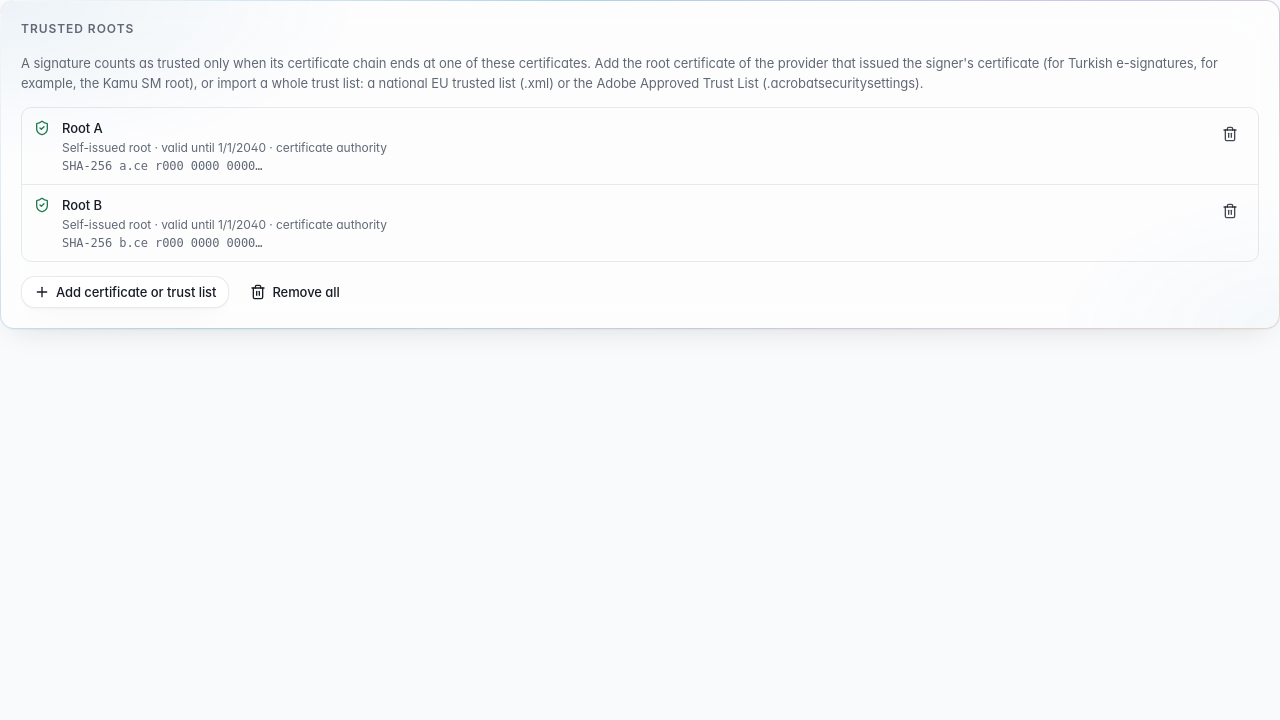
TrustRootsSection › reviews a list of lists that adds no roots instead of reporting nothing new
This screenshot has width=1280, height=720.
Expected: the text "Root A" is shown, 62,120 -> 103,136
Step 1. Click the button "Add certificate or trust list" → (125, 292), box 21,276 -> 229,308
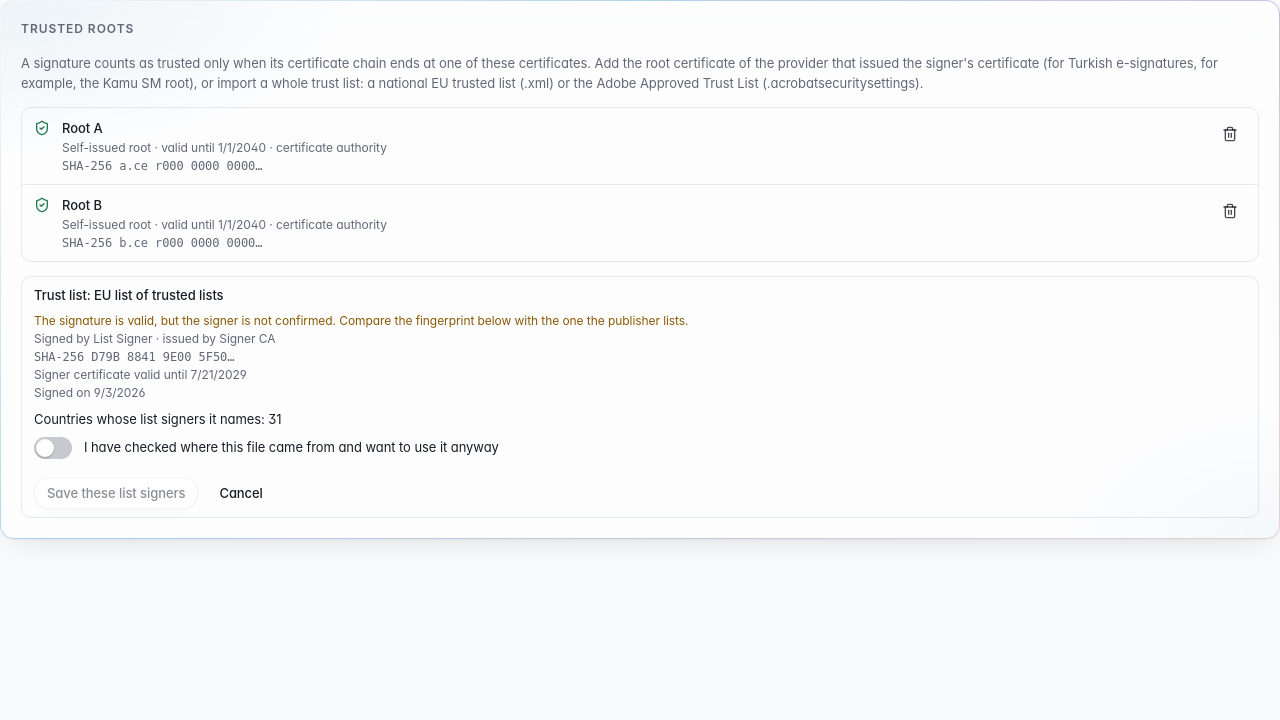
Now the element named "Review before adding" shows "Trust list: EU list of trusted lists", box 34,287 -> 224,303
Now the element named "Review before adding" shows "Countries whose list signers it names: 31", box 34,411 -> 282,427
Now the button "Save these list signers" is shown, box 34,477 -> 198,509
